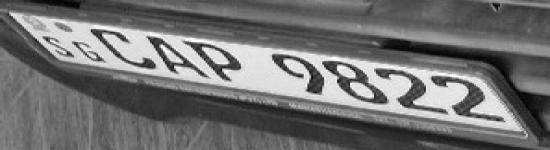2: (429, 71, 512, 129), (369, 65, 452, 116)
3: (84, 24, 166, 74)
8: (325, 56, 386, 108)
9: (266, 45, 323, 98)
A: (141, 33, 220, 85)
G: (74, 39, 104, 65)
P: (176, 37, 263, 84)
S: (39, 33, 74, 61)
